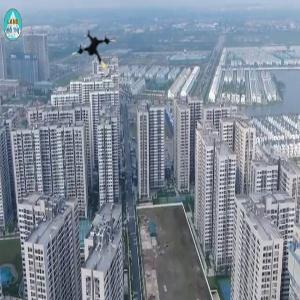drone: (70, 29, 123, 82)
